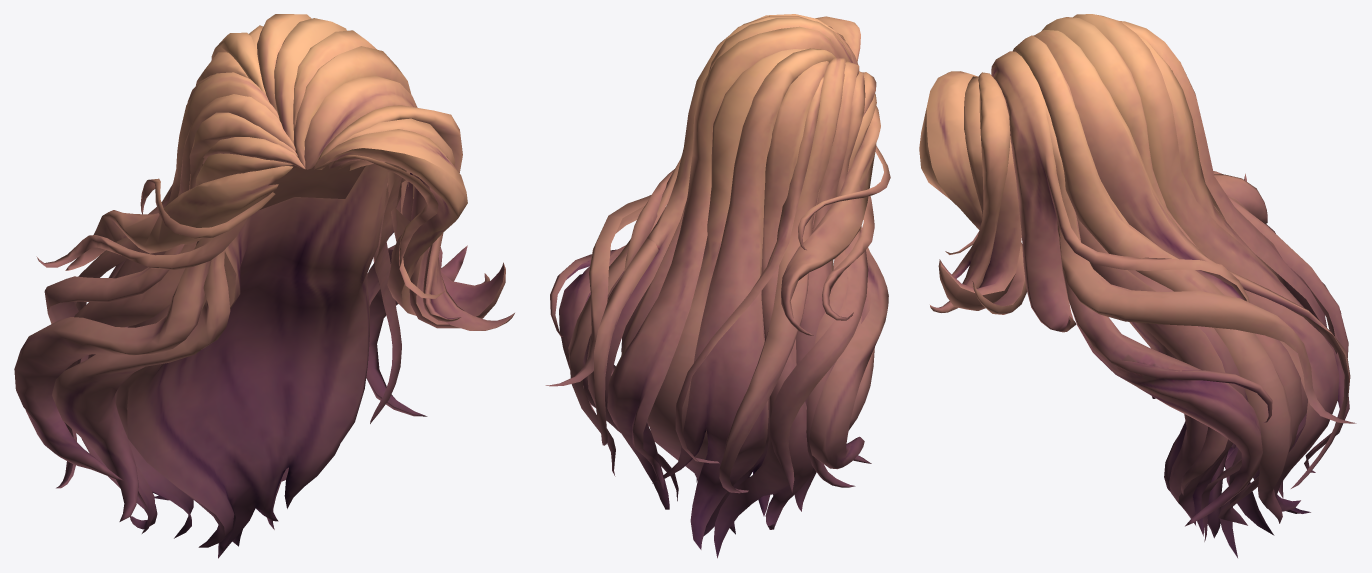
Rendered from Sketchfab_2020_04_15_12_16_04 1.fbx.
3 views of the same model, side by side, from view 1: azimuth 30°, elevation 25°; view 2: azimuth 150°, elevation 25°; view 3: azimuth 270°, elevation 25° (orthographic). The views are drawn at different scales.
Visible parts, largest first — view 1: 08; view 2: 08; view 3: 08.
Boxes of the visible parts, x1,y1,x2,y2 form: 08: (14, 14, 514, 558); 08: (545, 14, 890, 558); 08: (919, 14, 1356, 557).
Bounding box in the file's own units: 3181 × 4656 × 3523.
